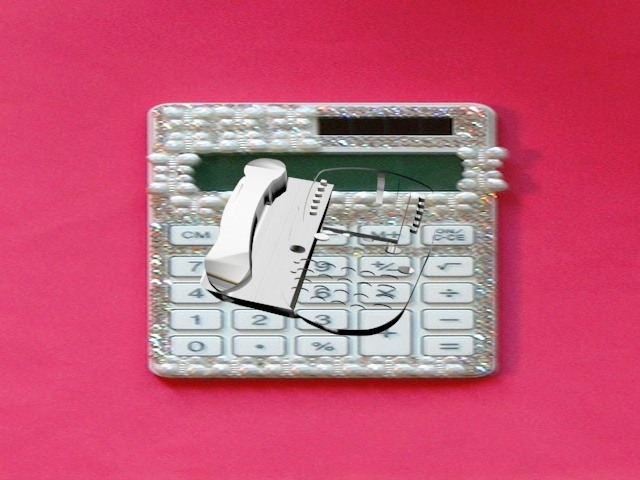phone: (193, 153, 440, 344)
